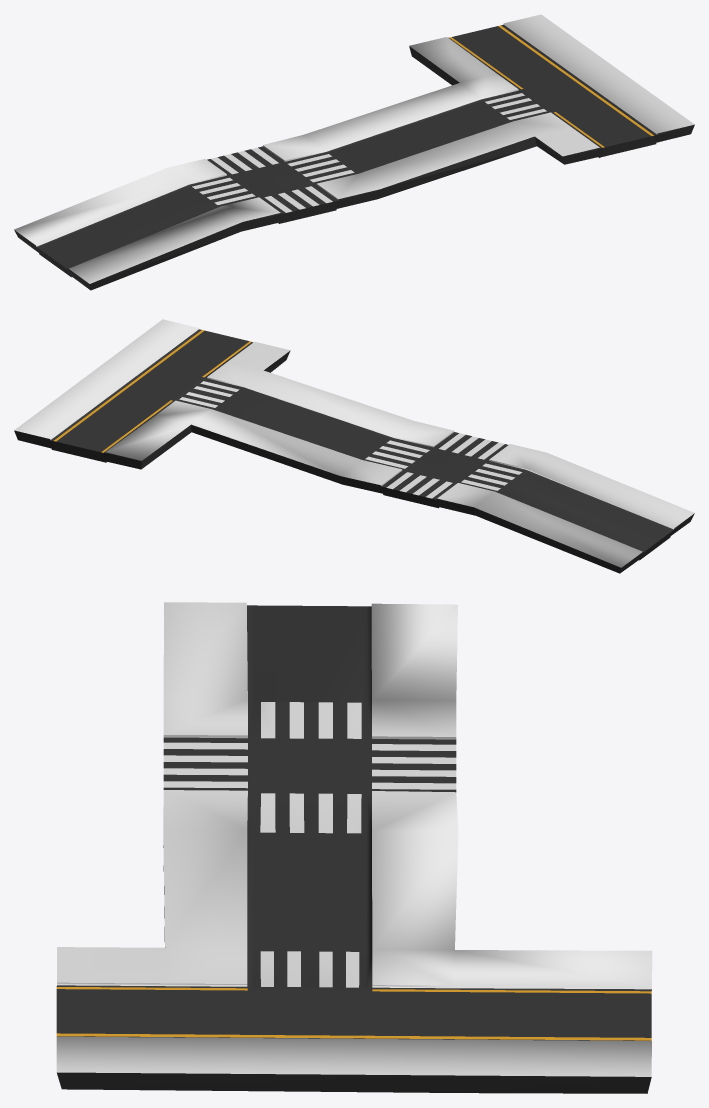
File: fase2 separada teste.fbx
3 renders of one model, top to bottom at view 1: azimuth 30°, elevation 25°; view 2: azimuth 150°, elevation 25°; view 3: azimuth 270°, elevation 25°, orthographic. The views are drawn at different scales.
Visible parts, largest first — view 1: Plane.001; view 2: Plane.001; view 3: Plane.001.
Part boxes in pixels (<box>): Plane.001: <box>14,14,694,290</box>; Plane.001: <box>14,319,694,573</box>; Plane.001: <box>56,602,652,1093</box>.
Size of the model in its own units: 1244 by 102 by 574.
